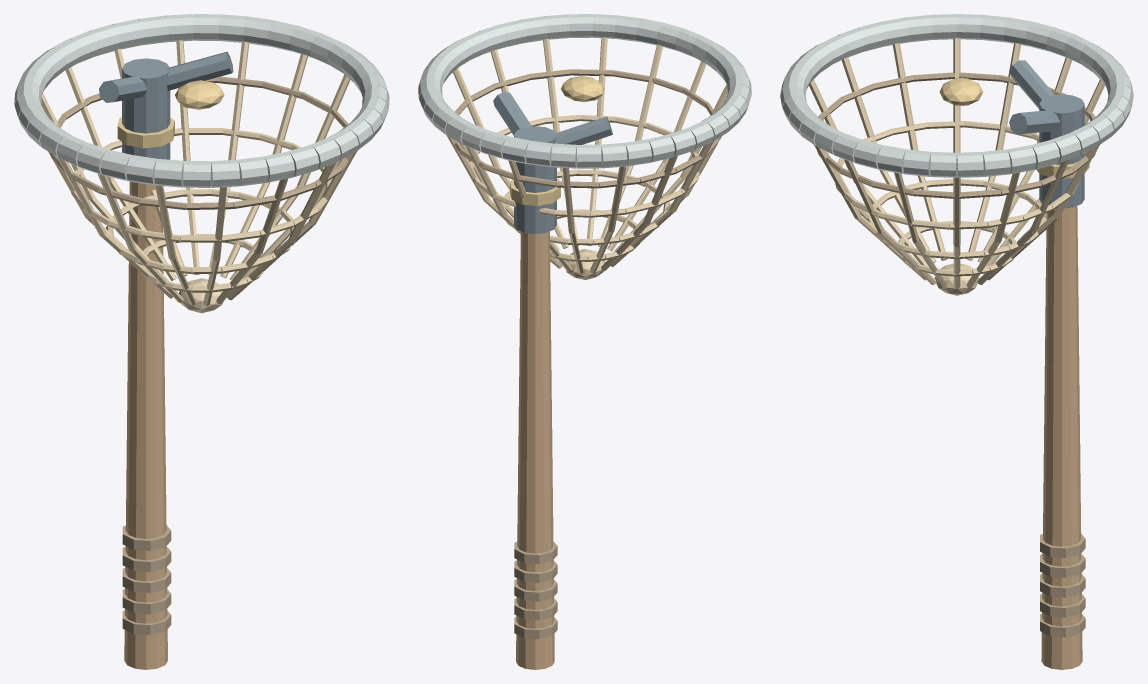
Rendered from salvage_net_tool.glb.
3 renders of one model, left to right at view 1: azimuth 30°, elevation 25°; view 2: azimuth 150°, elevation 25°; view 3: azimuth 270°, elevation 25°, orthographic. The views are drawn at different scales.
Visible parts, largest first — view 1: salvage_net_tool_metal_edge, salvage_net_tool_rope, salvage_net_tool_wood_honey, salvage_net_tool_rope_dark, salvage_net_tool_iron, salvage_net_tool_bronze; view 2: salvage_net_tool_metal_edge, salvage_net_tool_rope, salvage_net_tool_wood_honey, salvage_net_tool_rope_dark, salvage_net_tool_iron, salvage_net_tool_bronze; view 3: salvage_net_tool_metal_edge, salvage_net_tool_rope, salvage_net_tool_wood_honey, salvage_net_tool_rope_dark, salvage_net_tool_iron, salvage_net_tool_bronze.
Boxes of the visible parts, bbox=[...] form: salvage_net_tool_metal_edge: bbox=[14, 14, 389, 187]; salvage_net_tool_rope: bbox=[41, 40, 360, 313]; salvage_net_tool_wood_honey: bbox=[124, 181, 167, 669]; salvage_net_tool_rope_dark: bbox=[50, 76, 348, 635]; salvage_net_tool_iron: bbox=[99, 51, 233, 159]; salvage_net_tool_bronze: bbox=[117, 80, 224, 148]; salvage_net_tool_metal_edge: bbox=[418, 14, 751, 168]; salvage_net_tool_rope: bbox=[447, 37, 727, 279]; salvage_net_tool_wood_honey: bbox=[516, 231, 554, 669]; salvage_net_tool_rope_dark: bbox=[454, 69, 719, 638]; salvage_net_tool_iron: bbox=[493, 91, 612, 234]; salvage_net_tool_bronze: bbox=[510, 76, 604, 205]; salvage_net_tool_metal_edge: bbox=[780, 14, 1133, 177]; salvage_net_tool_rope: bbox=[809, 38, 1104, 295]; salvage_net_tool_wood_honey: bbox=[1041, 206, 1082, 669]; salvage_net_tool_rope_dark: bbox=[817, 72, 1096, 637]; salvage_net_tool_iron: bbox=[1009, 60, 1084, 208]; salvage_net_tool_bronze: bbox=[939, 78, 1089, 178].
Bounding box in the file's own units: 0.8078 × 1.46 × 0.8078.
